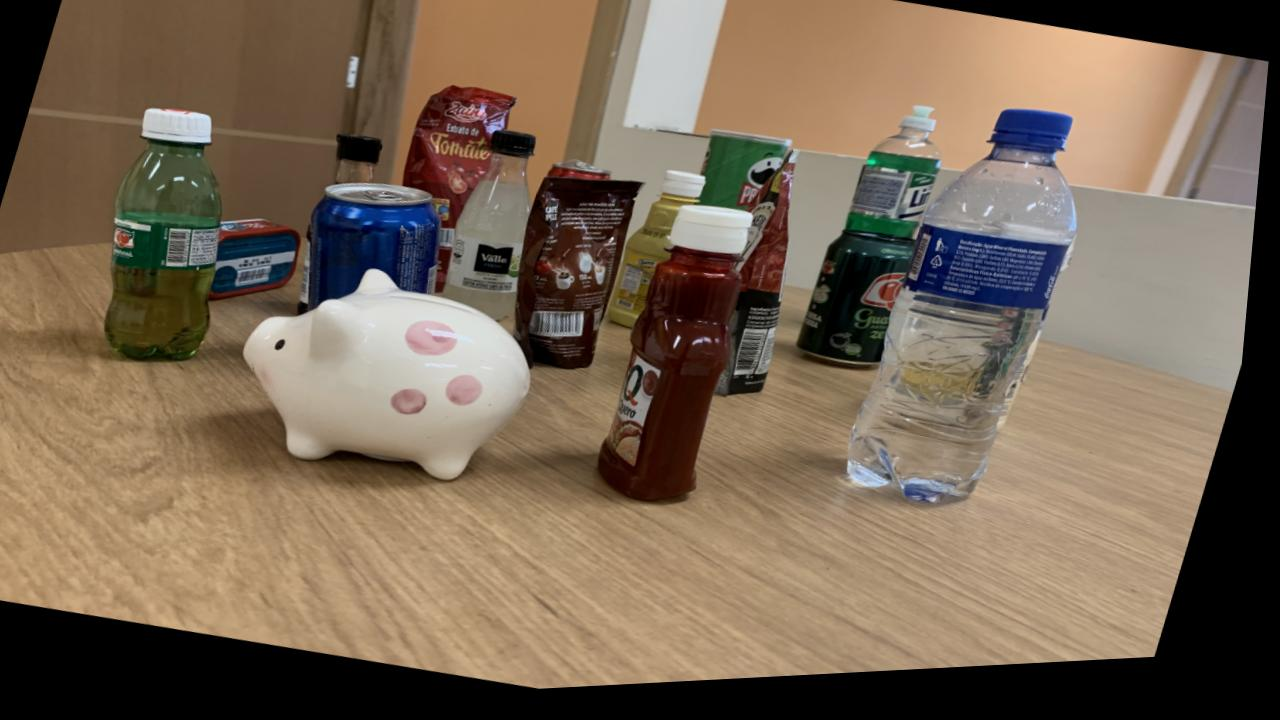Coffee-Pantry_Items: (519, 183, 647, 376)
Coke-Drinks: (551, 166, 615, 188)
Detergent-Cleanup_Items: (849, 116, 945, 249)
Guarana-Drinks: (110, 110, 226, 363)
Guarana_Can-Drinks: (804, 239, 921, 377)
Ketchup-Pantry_Items: (607, 213, 758, 509)
Mustard-Pantry_Items: (613, 178, 709, 334)
Pig_Safe-Miscellaneous: (249, 273, 538, 485)
Pringles-Snacks: (702, 137, 795, 218)
Soda-Drinks: (447, 135, 538, 326)
Tomato_Sauce-Pantry_Items: (406, 91, 517, 296), (723, 159, 802, 405)
Tonic-Drinks: (310, 187, 445, 313)
Tuna_Can-Pantry_Items: (215, 222, 304, 303)
Water_Bottle-Drinks: (856, 121, 1082, 514)
